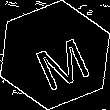M_NW: (22, 22, 88, 88)
